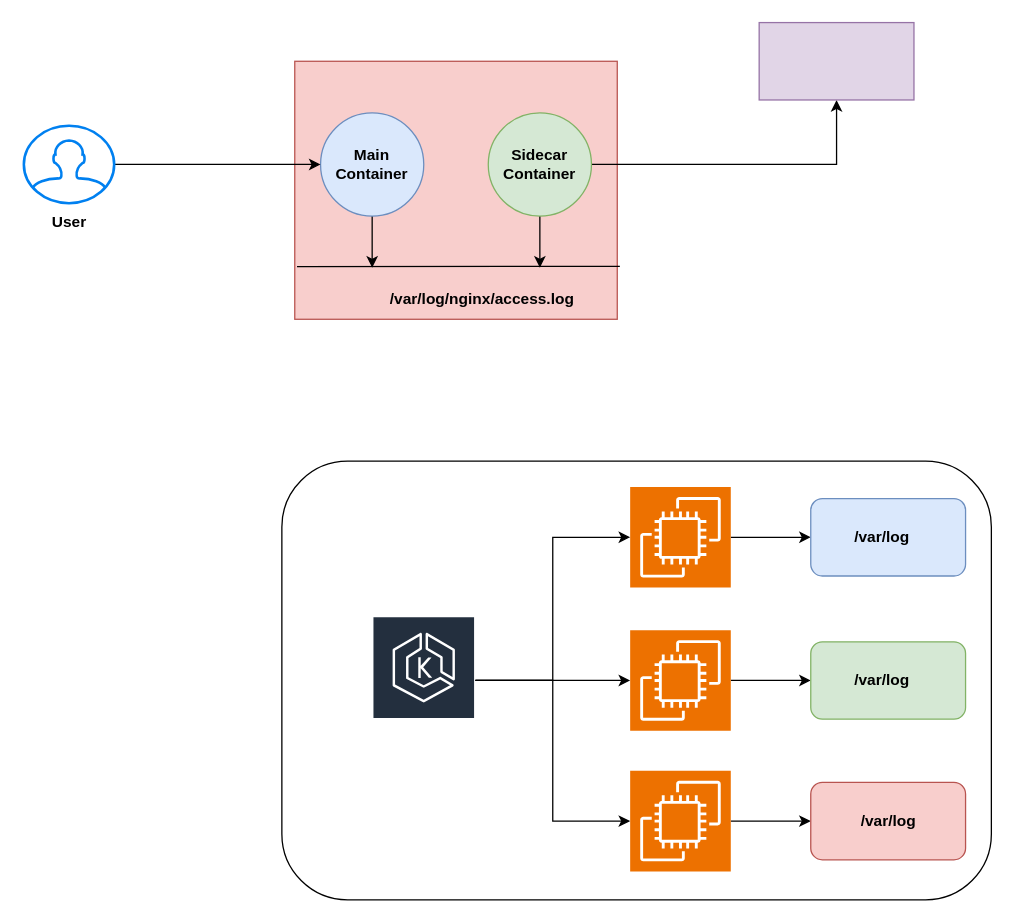
Some shapes in this 1014 by 922 pixel diagram are drawn without their labels. The shapes that lost their labels are listed below. From the top down, each one's centre as x and y in pixels, then its label:
At (836,60): "ELK".
At (423,680): "Amazon EKS".
